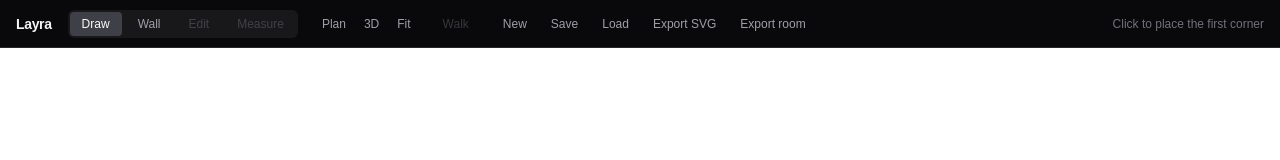
Test: Toolbar › offers wall drawing before a room exists
Click the button "wall": (149, 24) [126,12,172,36]
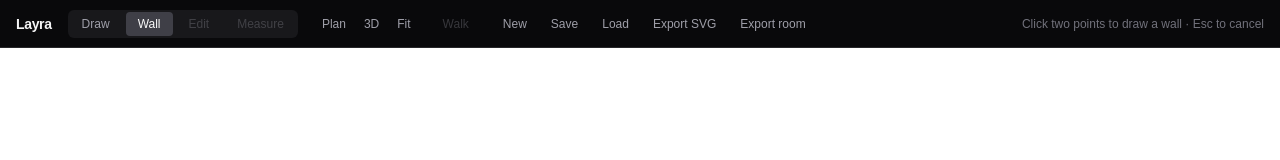
Expected: the text "Click two points to draw a wall · Esc to cancel" is shown, [1022,16,1264,32]
